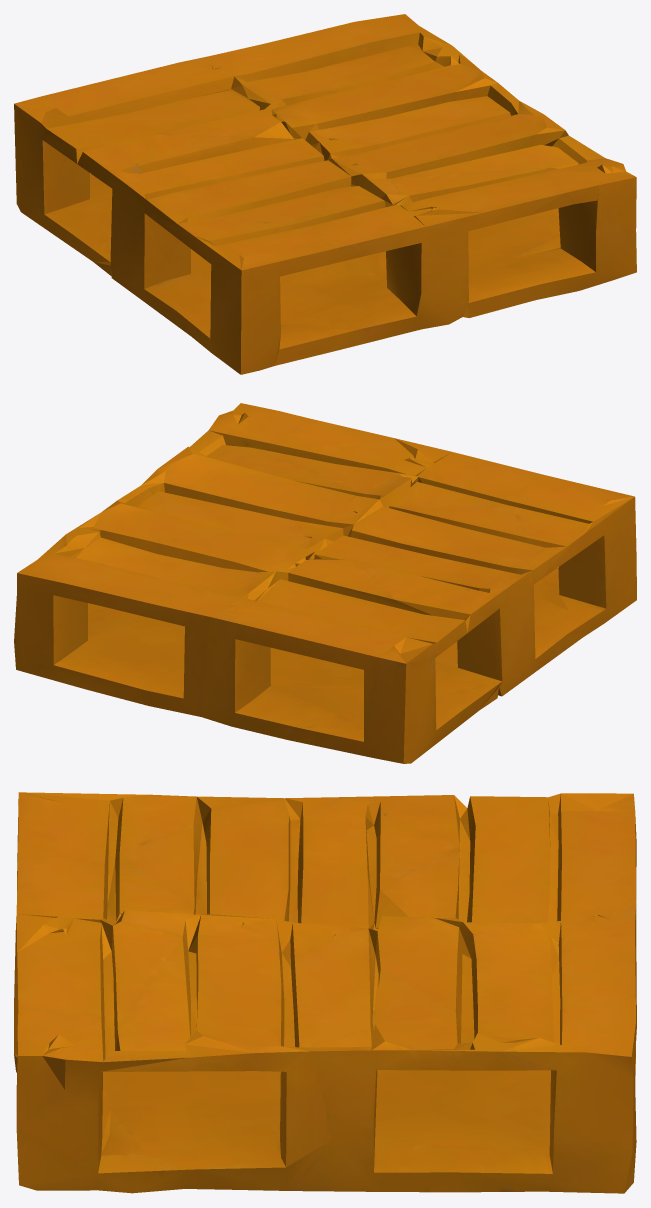
File: pallet.glb
3 views of the same model, one above another, from view 1: azimuth 30°, elevation 25°; view 2: azimuth 150°, elevation 25°; view 3: azimuth 270°, elevation 25° (orthographic). The views are drawn at different scales.
Visible parts, largest first — view 1: model; view 2: model; view 3: model.
Boxes of the visible parts, x1,y1,x2,y2 form: model: [14, 14, 636, 374]; model: [14, 403, 636, 763]; model: [14, 792, 636, 1193].
Bounding box in the file's own units: 1.9 × 0.5184 × 1.9.
Materials: 1 (1 with a texture image).
